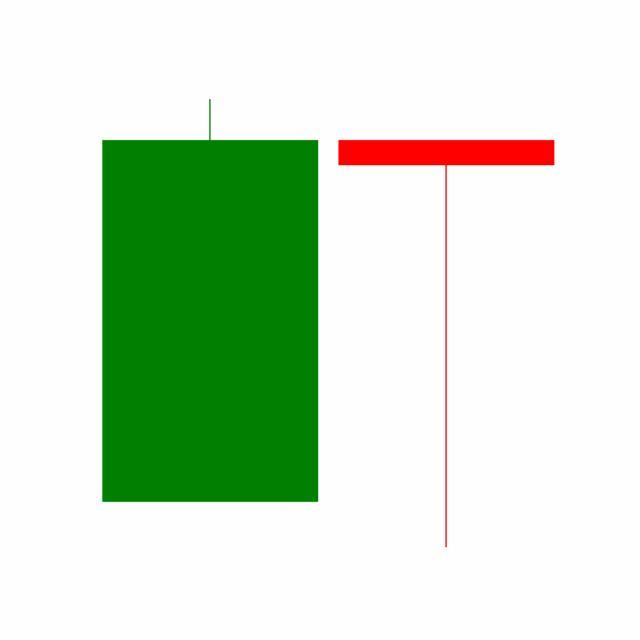Hammer: (328, 135, 566, 552)
